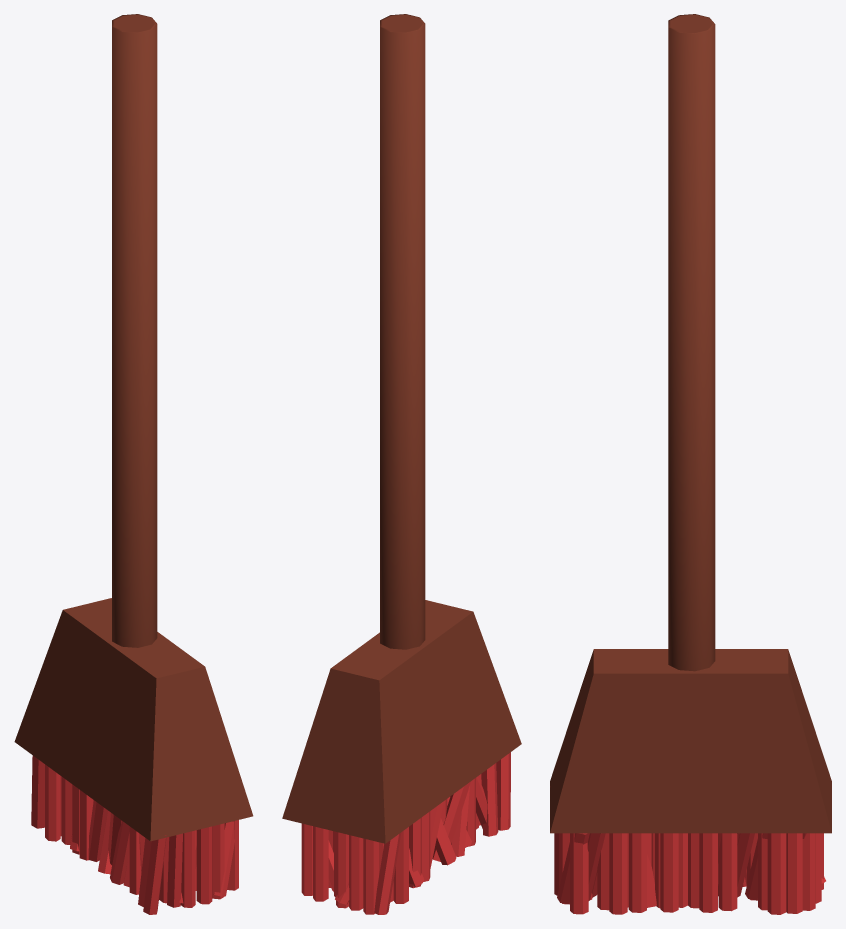
File: SM_Serpillere.fbx
The picture shows the model from 3 angles, left to right: view 1: azimuth 30°, elevation 25°; view 2: azimuth 150°, elevation 25°; view 3: azimuth 270°, elevation 25°; orthographic projection. The views are drawn at different scales.
Visible parts, largest first — view 1: Cylinder; view 2: Cylinder; view 3: Cylinder.
Boxes of the visible parts, x1,y1,x2,y2 form: Cylinder: (14,14,253,914); Cylinder: (282,14,521,914); Cylinder: (550,14,831,914).
Bounding box in the file's own units: 21.18 × 163 × 48.04.
